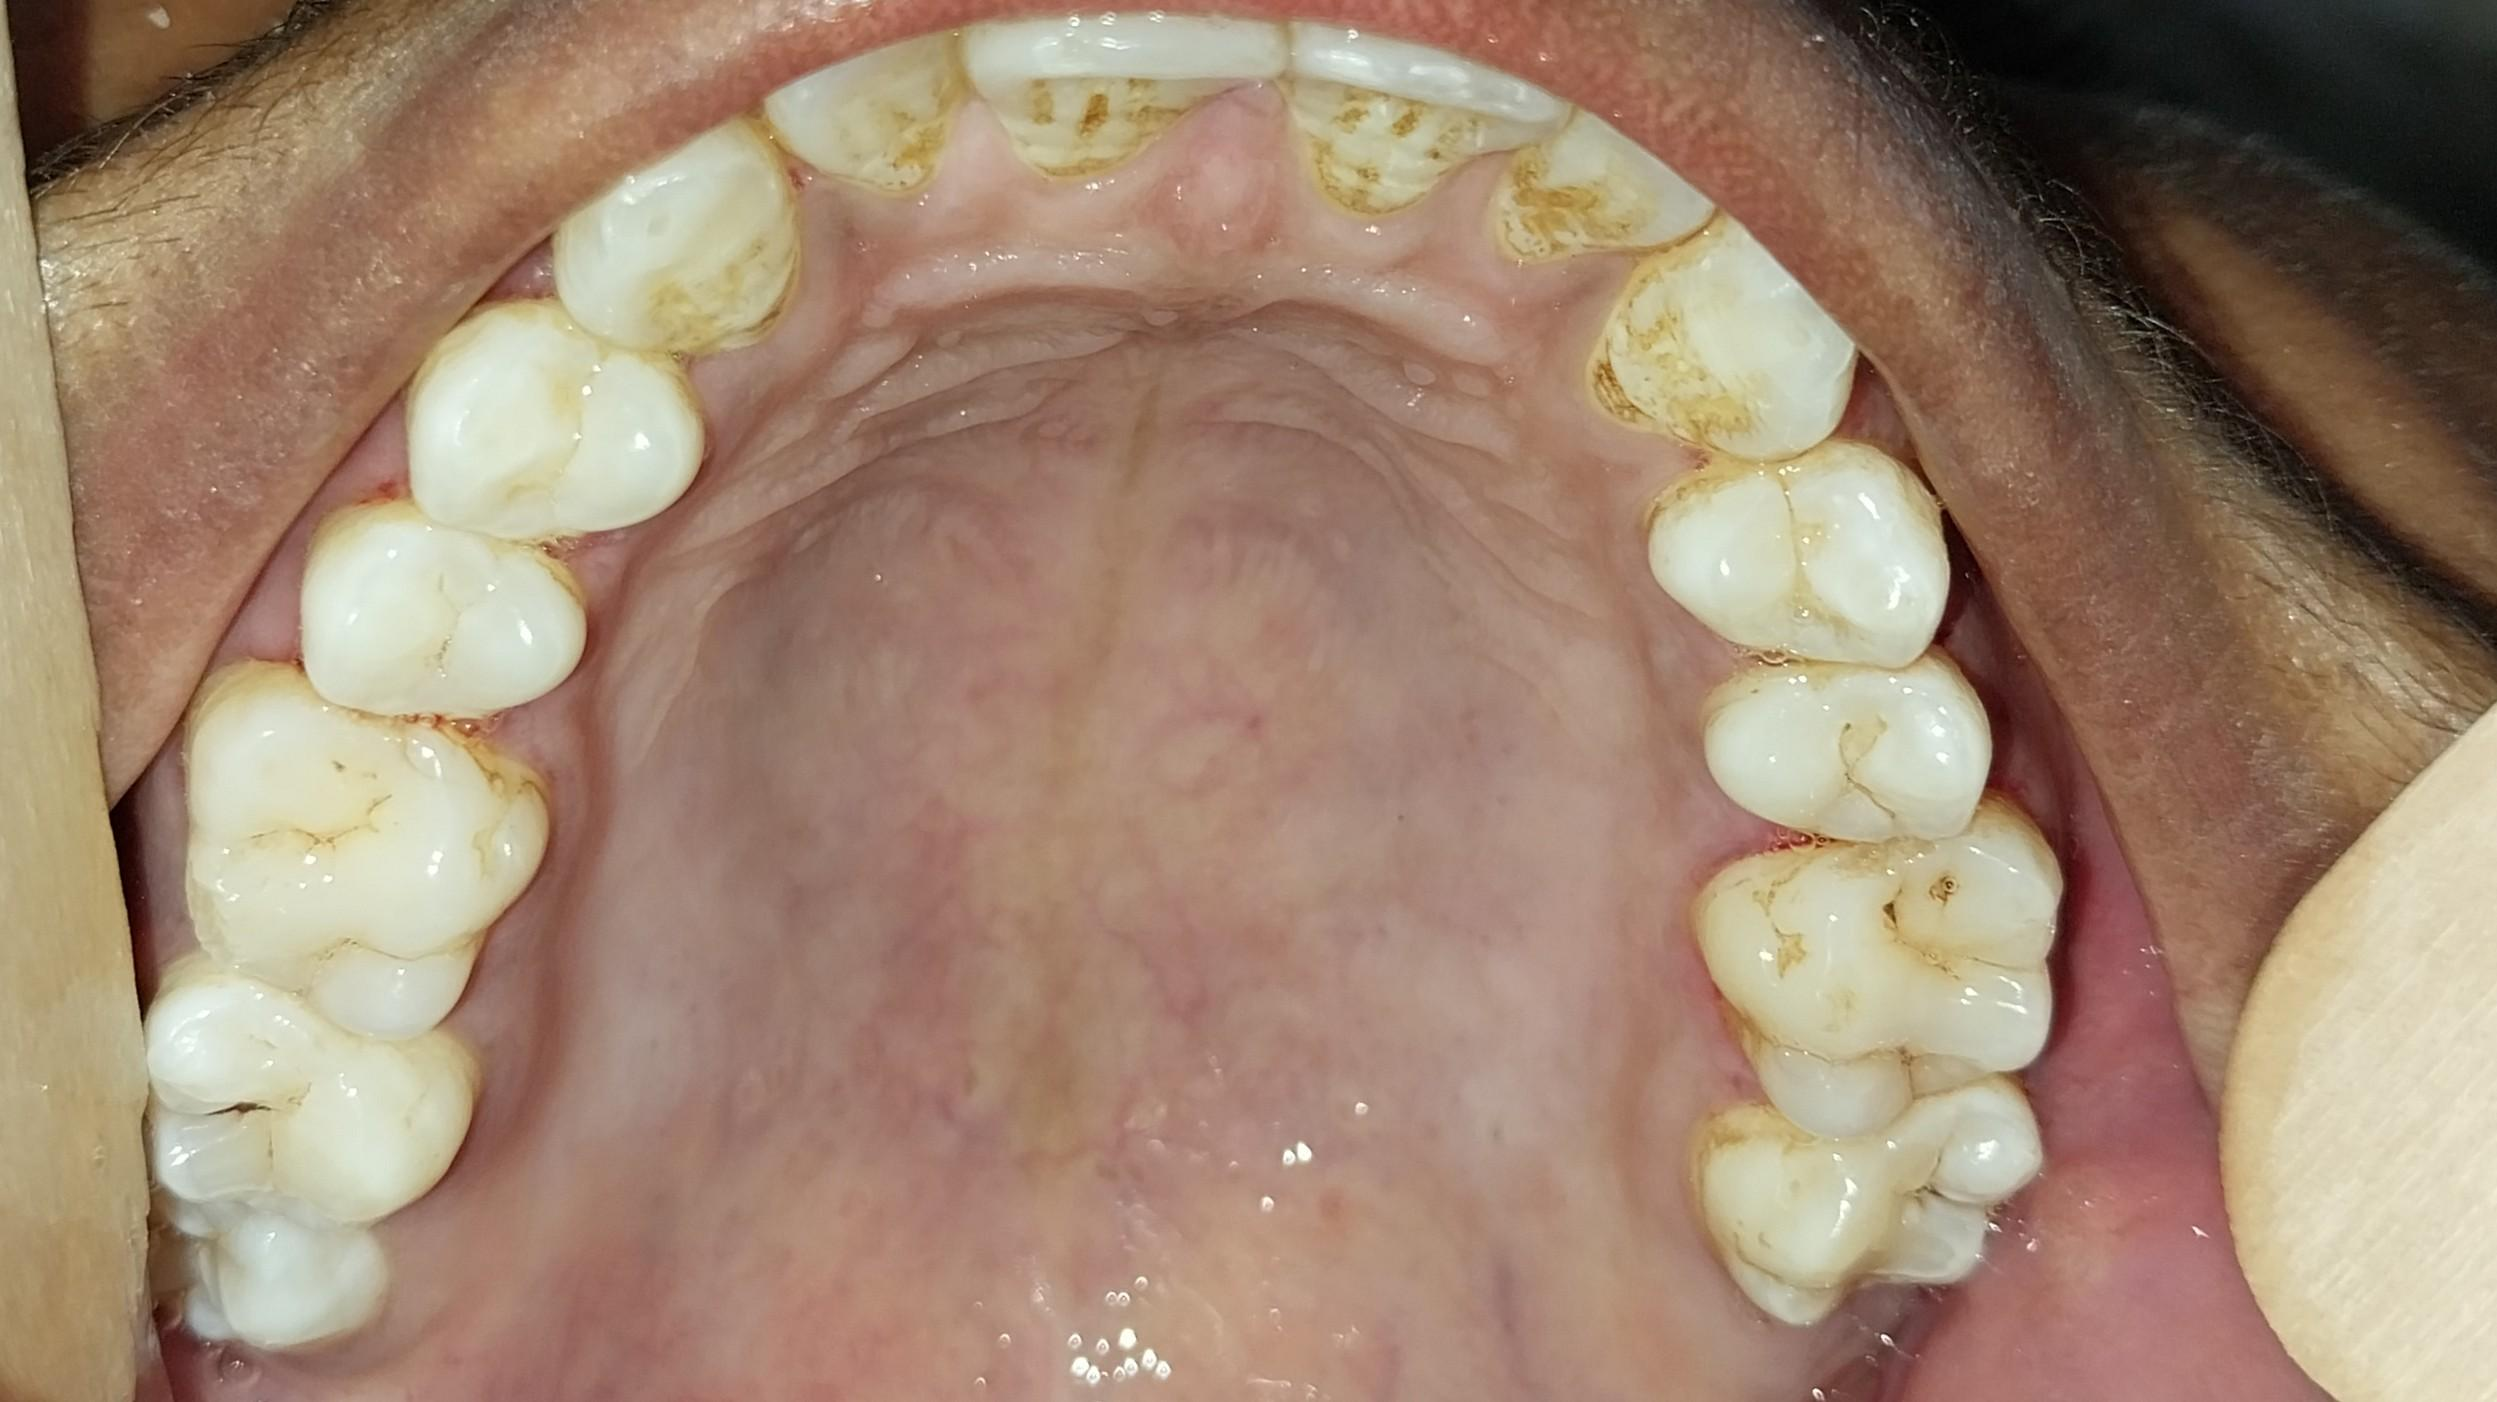D: (1693, 820, 2058, 1124), (141, 974, 472, 1241), (1710, 1074, 2043, 1331)
